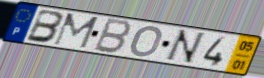4: (201, 36, 226, 68)
B: (91, 17, 135, 55), (24, 8, 66, 45)
M: (51, 12, 101, 50)
N: (161, 29, 207, 66)
O: (128, 25, 165, 59)
